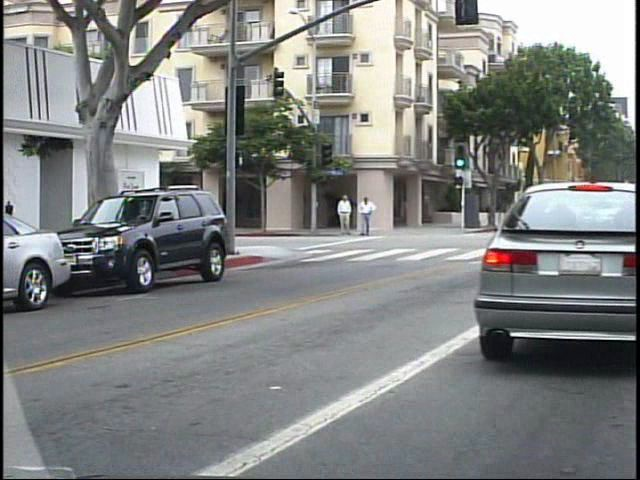person: (334, 192, 354, 243), (354, 193, 374, 238)
